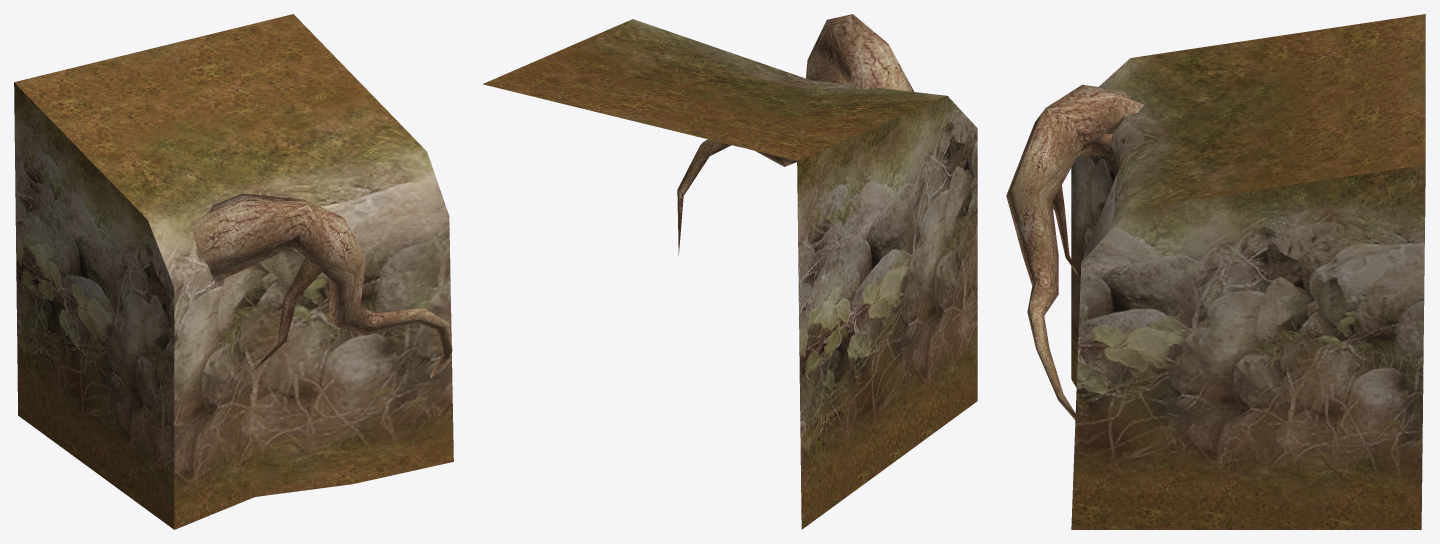
Rendered from n_tilewallC_3.glb.
3 views of the same model, side by side, from view 1: azimuth 30°, elevation 25°; view 2: azimuth 150°, elevation 25°; view 3: azimuth 270°, elevation 25° (orthographic). The views are drawn at different scales.
Visible parts, largest first — view 1: n_tilewallC_3; view 2: n_tilewallC_3; view 3: n_tilewallC_3.
Boxes of the visible parts, x1,y1,x2,y2 form: n_tilewallC_3: [14, 14, 453, 529]; n_tilewallC_3: [482, 14, 977, 529]; n_tilewallC_3: [1006, 14, 1425, 529].
Size of the model in its own units: 3.02 by 3.41 by 3.55.
Materials: 2 (2 with a texture image).
